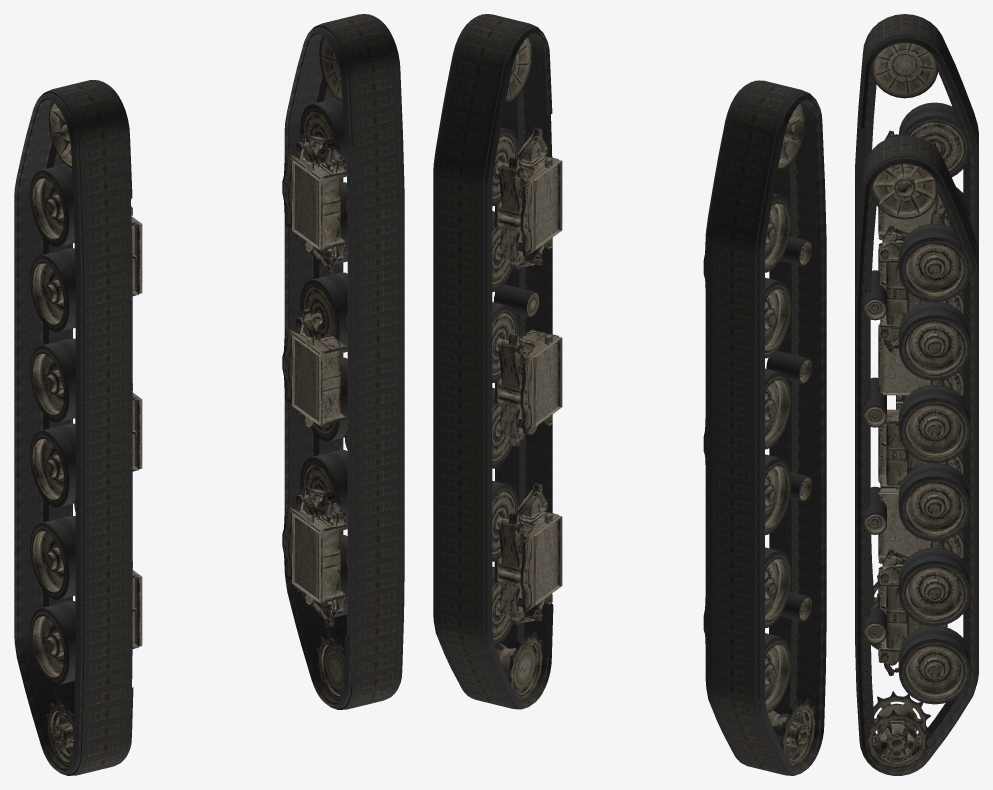
File: Chassis.glb
3 views of the same model, side by side, from view 1: azimuth 30°, elevation 25°; view 2: azimuth 150°, elevation 25°; view 3: azimuth 270°, elevation 25° (orthographic). The views are drawn at different scales.
Parts seen in each view (by area): view 1: set_0_group_0, set_1_group_0, set_3_group_0, set_2_group_0; view 2: set_0_group_0, set_1_group_0, set_3_group_0, set_2_group_0; view 3: set_3_group_0, set_1_group_0, set_2_group_0, set_0_group_0.
Boxes of the visible parts, x1,y1,x2,y2 form: set_0_group_0: (14,80,133,775); set_1_group_0: (284,14,404,709); set_3_group_0: (282,36,347,701); set_2_group_0: (30,102,142,767); set_0_group_0: (705,80,826,775); set_1_group_0: (433,14,553,709); set_3_group_0: (492,36,562,700); set_2_group_0: (703,102,815,767); set_3_group_0: (863,164,970,768); set_1_group_0: (855,135,978,775); set_2_group_0: (870,43,970,608); set_0_group_0: (855,14,978,649).
Size of the model in its own units: 3.36 by 6.61 by 1.19.
Materials: 4 (4 with a texture image).
